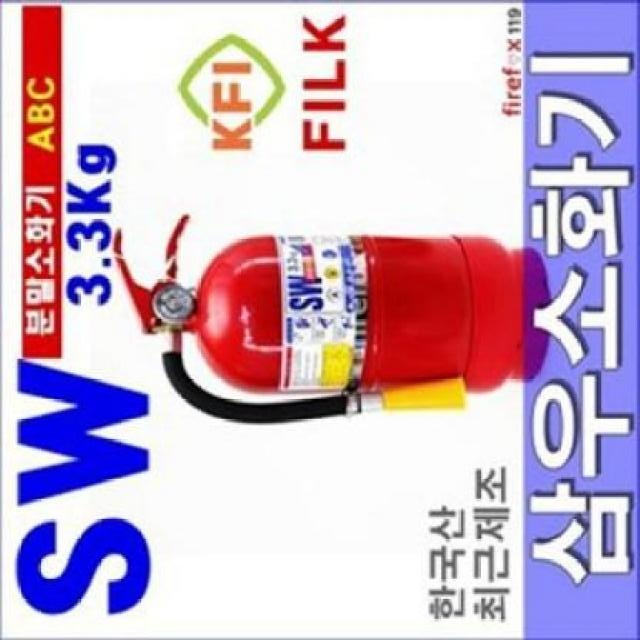fire extinguisher: (113, 215, 550, 427)
